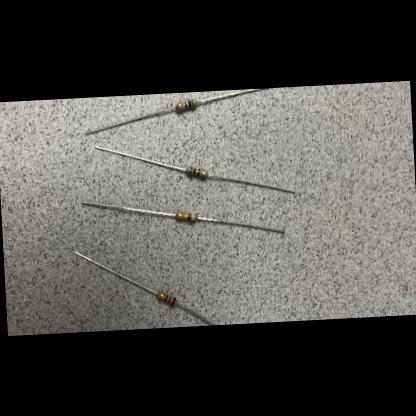resistor: (154, 291, 176, 306), (174, 99, 197, 111), (174, 211, 197, 221), (186, 167, 206, 178)
wire: (74, 248, 155, 298), (93, 141, 186, 176), (84, 107, 176, 136), (207, 170, 294, 197), (80, 197, 174, 221), (197, 213, 283, 238), (197, 88, 268, 103), (176, 301, 213, 327)
